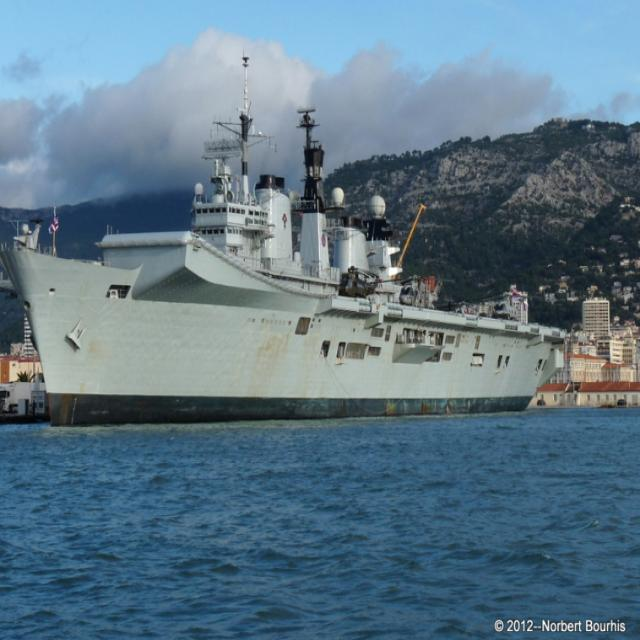Portanaves: (1, 70, 572, 435)
